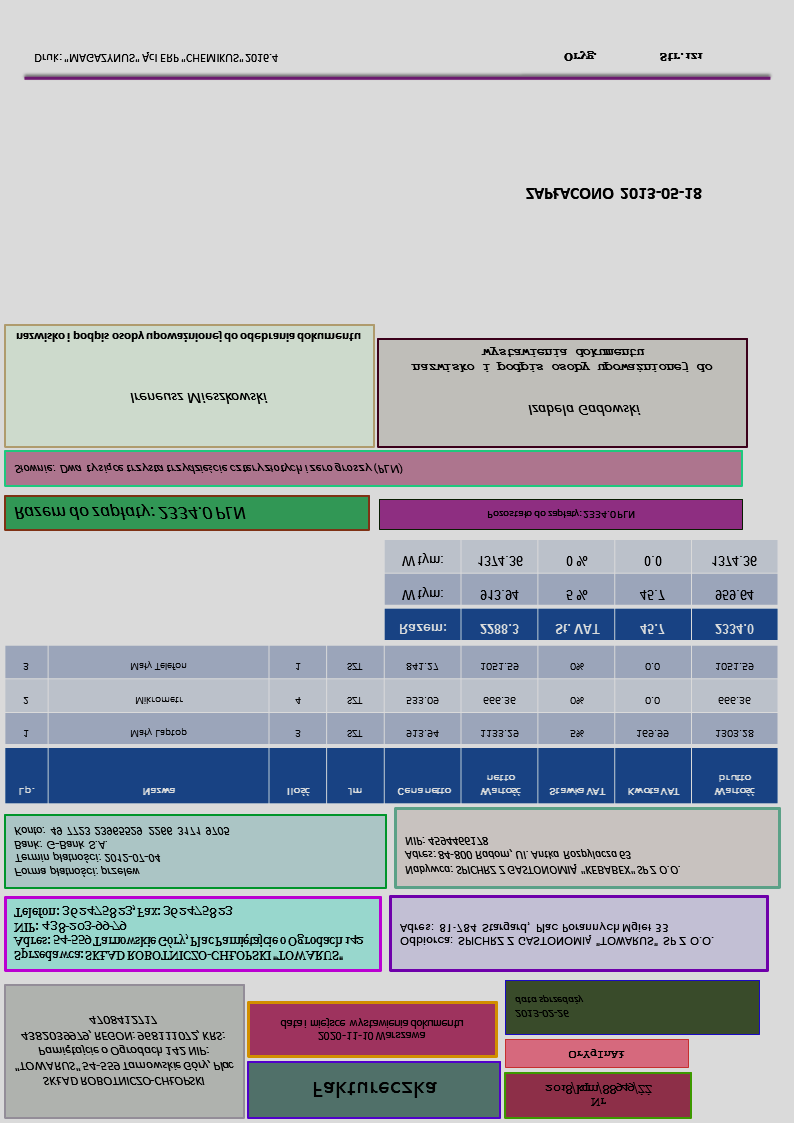Table: (3, 645, 780, 805), (382, 538, 780, 642)
TextBox: (11, 904, 368, 965), (12, 1010, 239, 1090), (402, 833, 685, 879), (11, 823, 233, 881), (395, 919, 717, 951), (408, 345, 716, 377), (13, 460, 404, 478), (13, 328, 363, 348), (11, 501, 248, 526), (32, 47, 279, 68), (277, 1016, 467, 1043), (520, 184, 707, 205), (542, 1078, 654, 1111), (126, 387, 269, 410), (310, 1078, 438, 1101), (525, 399, 644, 422), (561, 48, 707, 66), (483, 508, 640, 524), (512, 990, 586, 1021), (565, 1045, 626, 1063)
